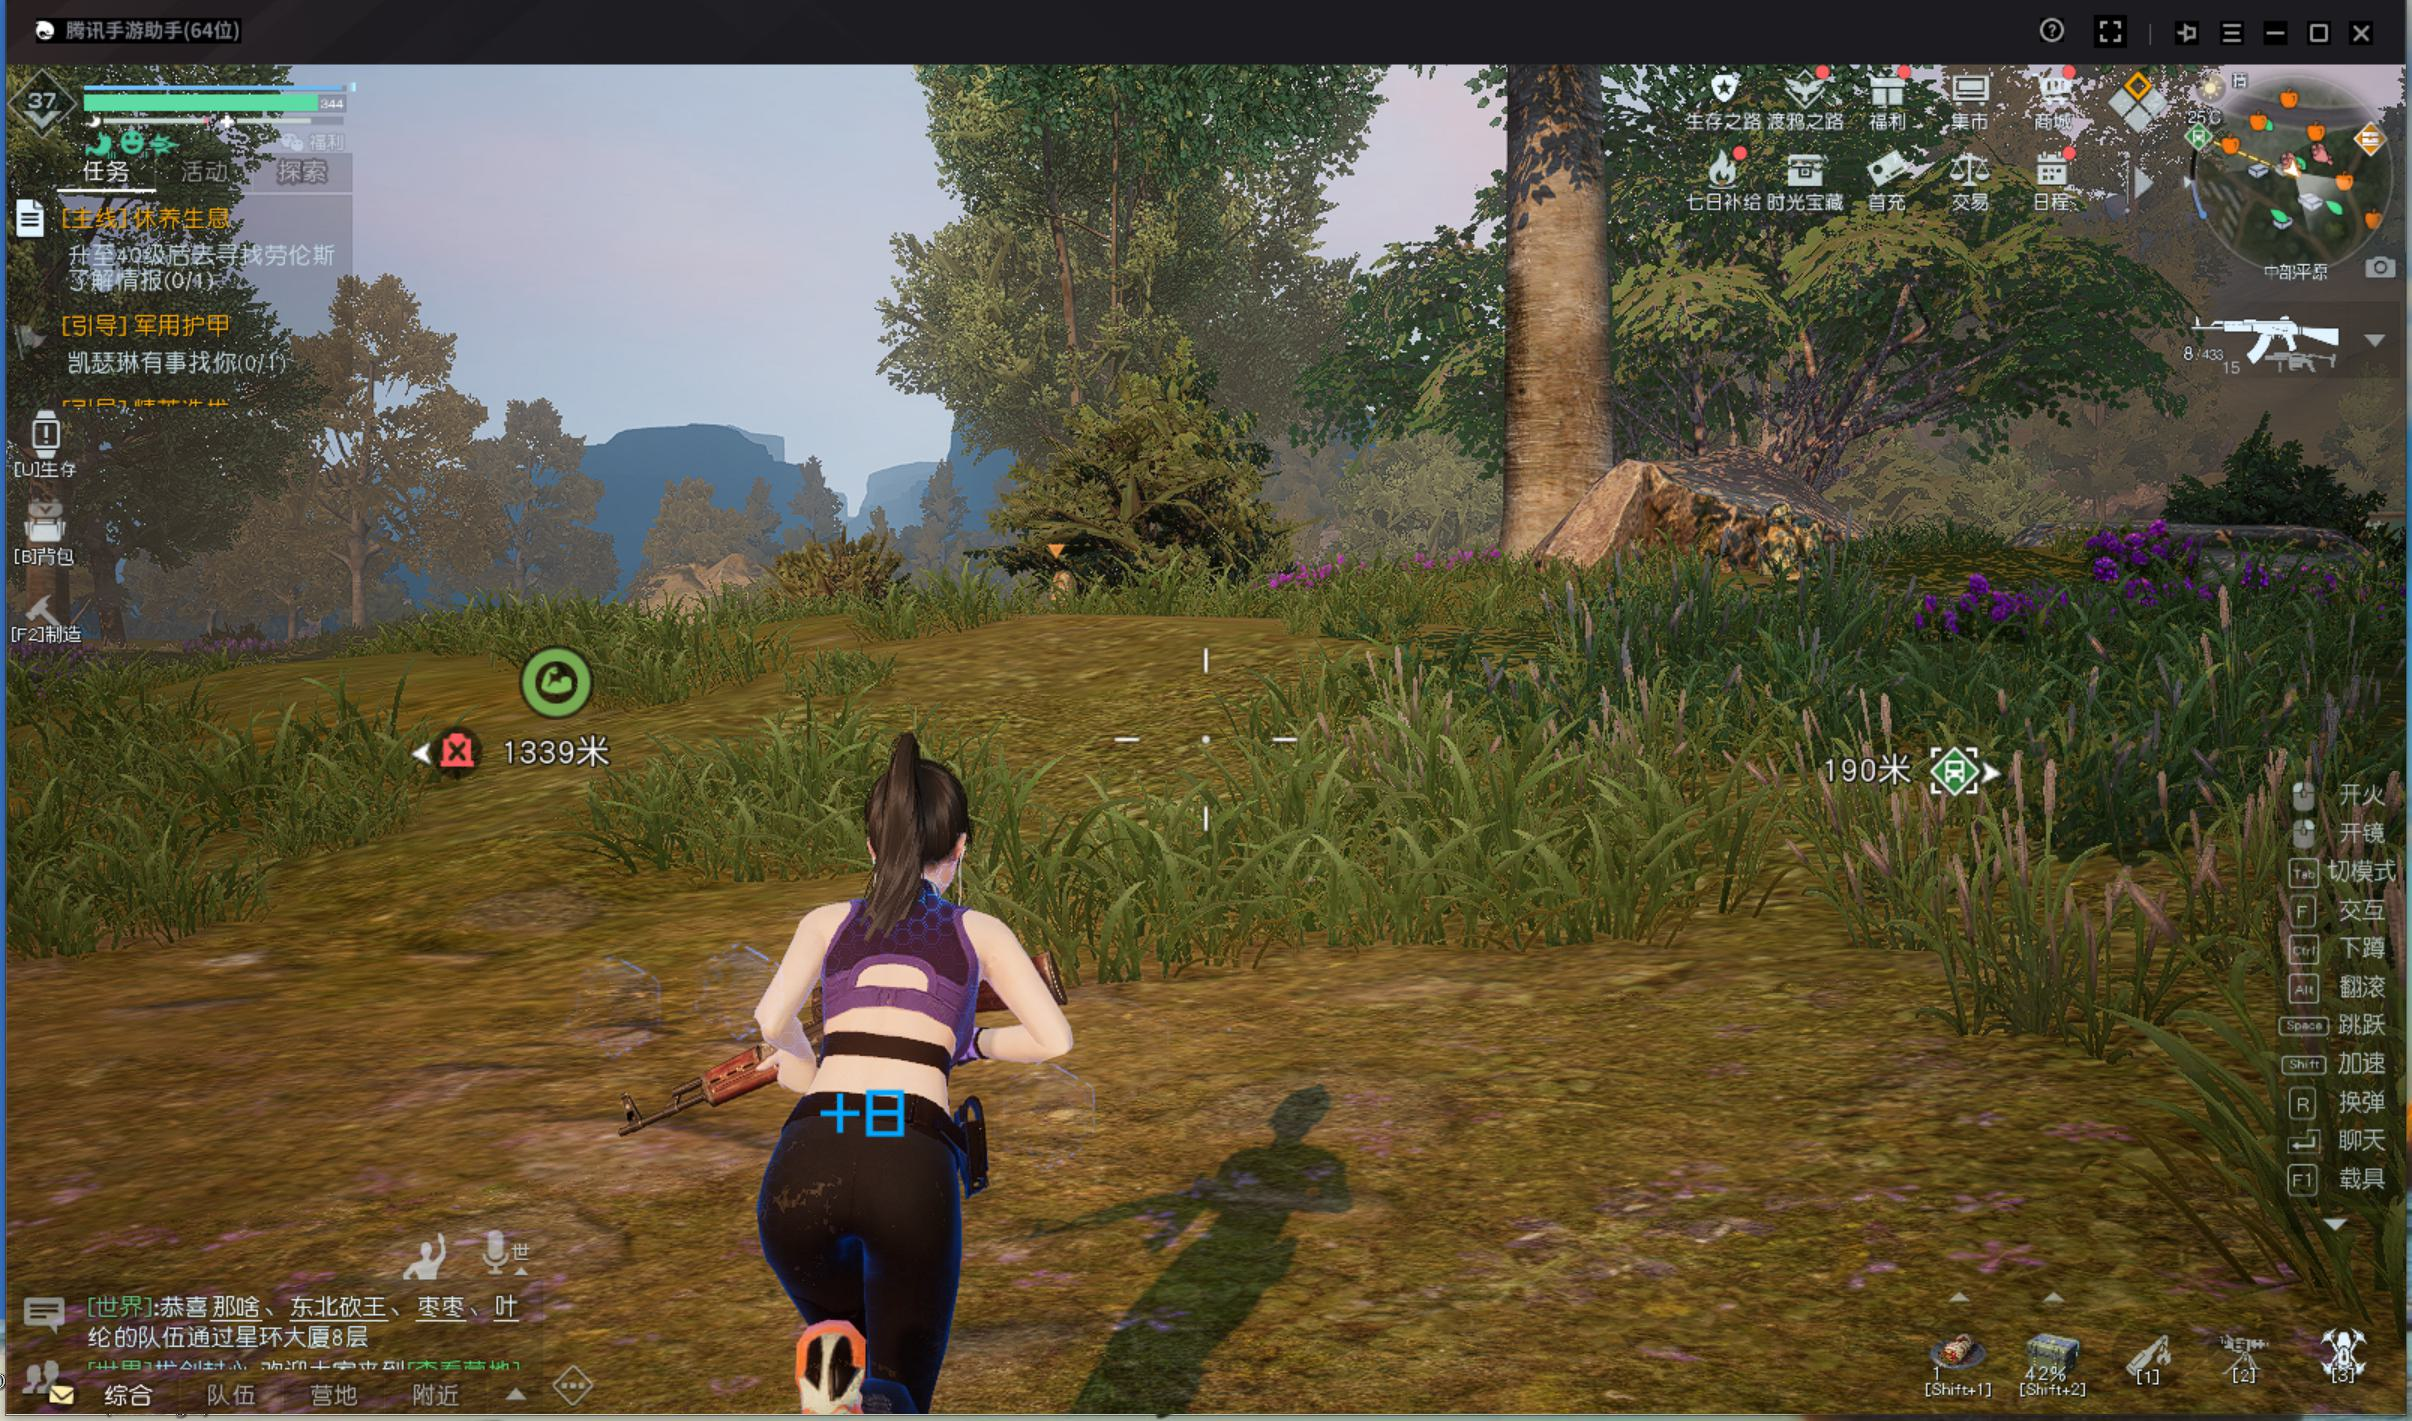stone: (1740, 486, 1835, 595)
tree: (1487, 135, 1641, 560)
